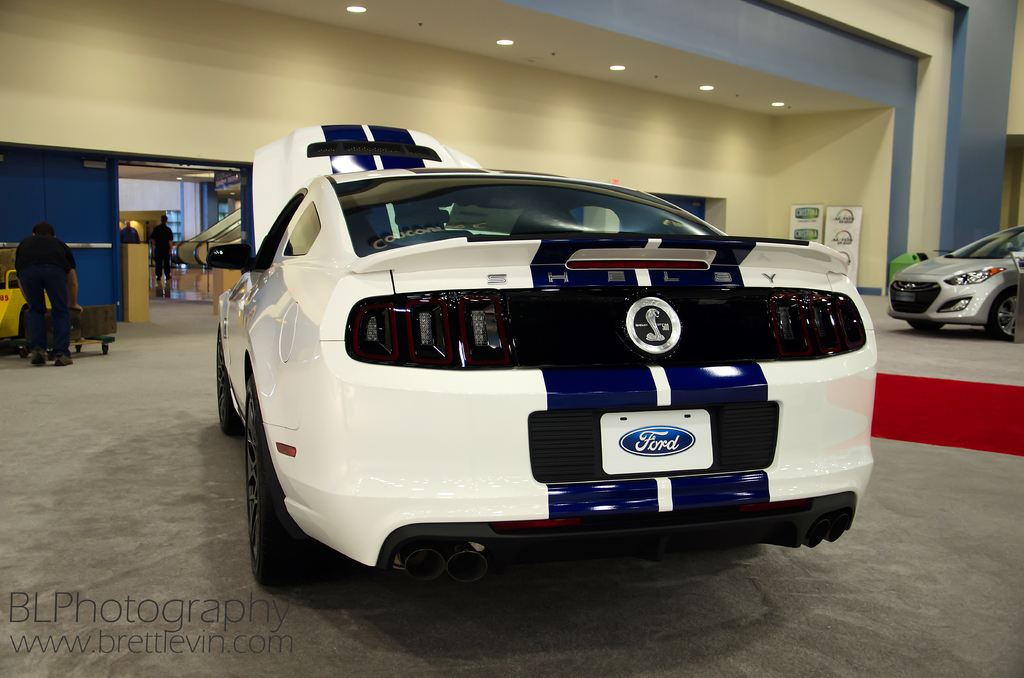Car: (200, 123, 880, 589), (889, 227, 1023, 343)
